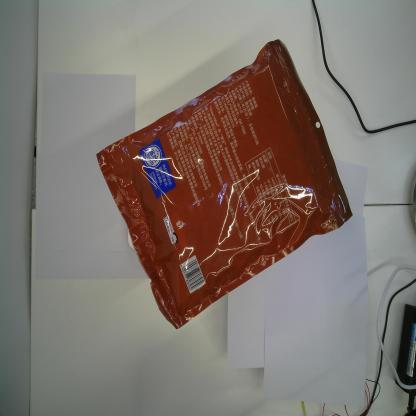Dried Food: (95, 37, 354, 331)
